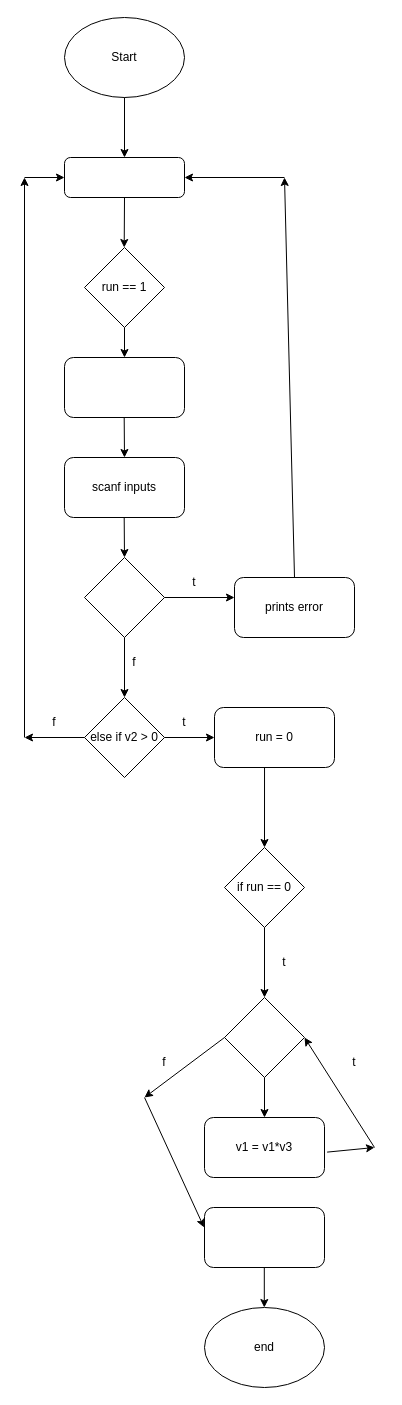
Some shapes in this 402 by 1405 pixel diagram are drawn without their labels. Each missing label, with the box of its shape:
for(i=1;i<v2;i++): (224, 996, 304, 1078)
if v2 < 0: (84, 556, 164, 638)
print output: (204, 1206, 324, 1268)
Printf grab input: (64, 356, 184, 418)
while: (64, 156, 184, 198)
